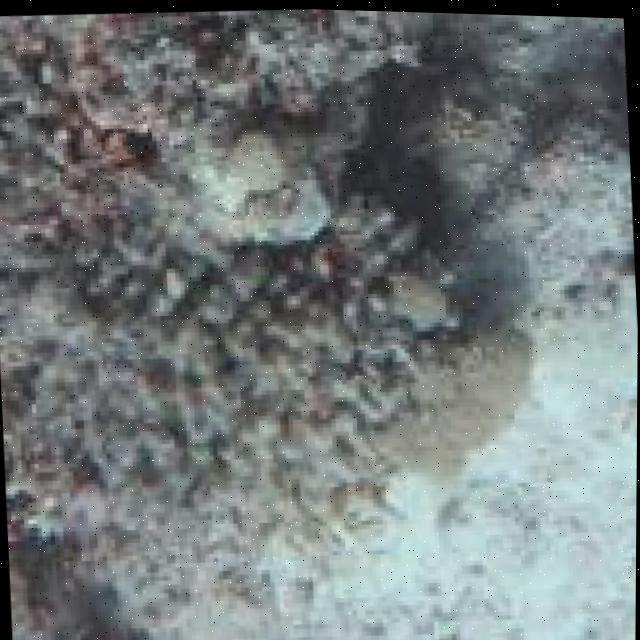Dead Coral: (99, 170, 468, 513)
